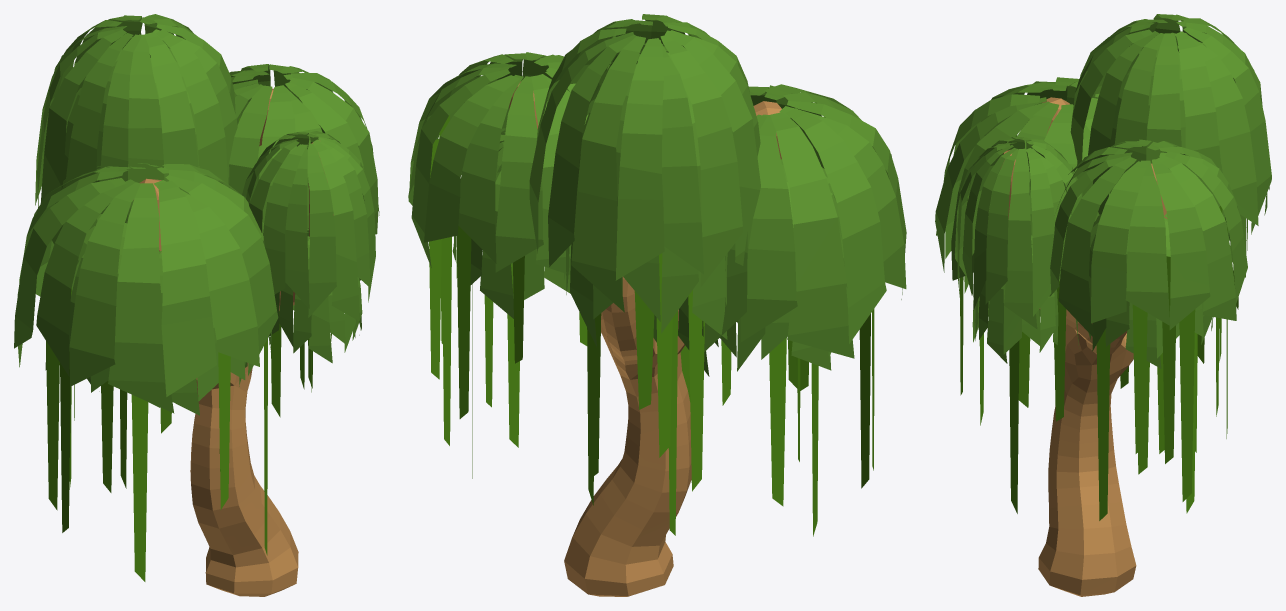
File: besar0.fbx
The picture shows the model from 3 angles, left to right: view 1: azimuth 30°, elevation 25°; view 2: azimuth 150°, elevation 25°; view 3: azimuth 270°, elevation 25°; orthographic projection. The views are drawn at different scales.
Visible parts, largest first — view 1: Object_12, Object_11, Object_13; view 2: Object_12, Object_13, Object_11; view 3: Object_12, Object_11, Object_13.
Boxes of the visible parts, left/top/right/bottom form: Object_12: left=14, top=14, right=379, bottom=415; Object_11: left=133, top=88, right=333, bottom=596; Object_13: left=46, top=118, right=355, bottom=581; Object_12: left=408, top=14, right=906, bottom=376; Object_13: left=429, top=115, right=874, bottom=536; Object_11: left=509, top=81, right=781, bottom=596; Object_12: left=935, top=14, right=1271, bottom=368; Object_11: left=1000, top=97, right=1167, bottom=596; Object_13: left=959, top=184, right=1238, bottom=520.
Bounding box in the file's own units: 186 × 260 × 150.
